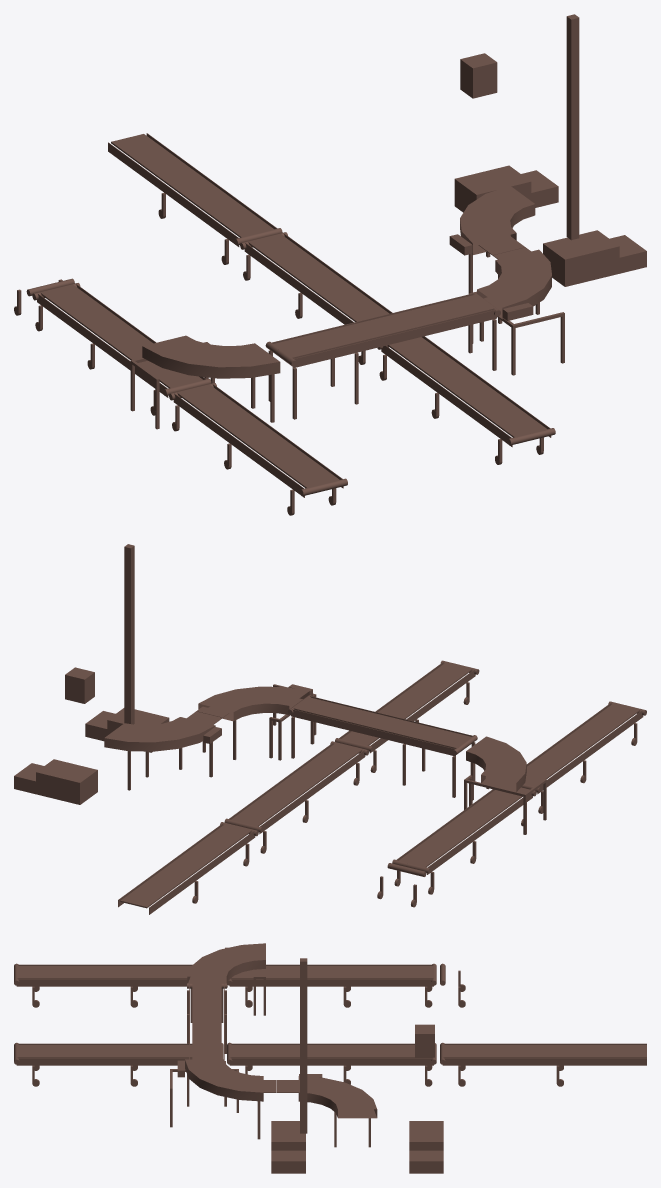
File: GCC-AAV-13220-30.nwd(156).fbx
3 renders of one model, top to bottom at view 1: azimuth 30°, elevation 25°; view 2: azimuth 150°, elevation 25°; view 3: azimuth 270°, elevation 25°, orthographic. The views are drawn at different scales.
Parts seen in each view (by area): view 1: BOX 9 of SUBEQUIPMENT /725-U-502-X-015A, BOX 9 of SUBEQUIPMENT 46 of EQUIPMENT /725-U-501, BOX 9 of SUBEQUIPMENT 31 of EQUIPMENT /725-U-502, BOX 9 of SUBEQUIPMENT 47 of EQUIPMENT /725-U-501, RTORUS 1 of SUBEQUIPMENT 31 of EQUIPMENT /725-U-501, BOX 9 of SUBEQUIPMENT 30 of EQUIPMENT /725-U-502, BOX 9 of SUBEQUIPMENT 45 of EQUIPMENT /725-U-501, BOX 8 of SUBEQUIPMENT 1 of EQUIPMENT /725-U-502, BOX 19 of SUBEQUIPMENT 1 of EQUIPMENT /725-U-502, RTORUS 2 of SUBEQUIPMENT 1 of EQUIPMENT /725-U-502, RTORUS 1 of SUBEQUIPMENT 1 of EQUIPMENT /725-U-502, BOX 1 of SUBEQUIPMENT 47 of EQUIPMENT /725-U-501 (+9 smaller); view 2: BOX 9 of SUBEQUIPMENT /725-U-502-X-015A, BOX 9 of SUBEQUIPMENT 30 of EQUIPMENT /725-U-502, BOX 9 of SUBEQUIPMENT 46 of EQUIPMENT /725-U-501, BOX 9 of SUBEQUIPMENT 47 of EQUIPMENT /725-U-501, BOX 9 of SUBEQUIPMENT 45 of EQUIPMENT /725-U-501, RTORUS 2 of SUBEQUIPMENT 1 of EQUIPMENT /725-U-502, RTORUS 1 of SUBEQUIPMENT 1 of EQUIPMENT /725-U-502, RTORUS 1 of SUBEQUIPMENT 31 of EQUIPMENT /725-U-501, BOX 9 of SUBEQUIPMENT 31 of EQUIPMENT /725-U-502, BOX 5 of SUBEQUIPMENT 1 of EQUIPMENT /725-U-502, BOX 19 of SUBEQUIPMENT 1 of EQUIPMENT /725-U-502, BOX 2 of SUBEQUIPMENT 47 of EQUIPMENT /725-U-501 (+9 smaller); view 3: BOX 9 of SUBEQUIPMENT /725-U-502-X-015A, BOX 9 of SUBEQUIPMENT 30 of EQUIPMENT /725-U-502, BOX 9 of SUBEQUIPMENT 45 of EQUIPMENT /725-U-501, BOX 9 of SUBEQUIPMENT 31 of EQUIPMENT /725-U-502, BOX 9 of SUBEQUIPMENT 46 of EQUIPMENT /725-U-501, BOX 9 of SUBEQUIPMENT 47 of EQUIPMENT /725-U-501, RTORUS 1 of SUBEQUIPMENT 1 of EQUIPMENT /725-U-502, RTORUS 1 of SUBEQUIPMENT 31 of EQUIPMENT /725-U-501, RTORUS 2 of SUBEQUIPMENT 1 of EQUIPMENT /725-U-502, BOX 1 of SUBEQUIPMENT /725-U-502-X-015A, BOX 1 of SUBEQUIPMENT 30 of EQUIPMENT /725-U-502, BOX 2 of SUBEQUIPMENT 45 of EQUIPMENT /725-U-501 (+12 smaller).
Part boxes in pixels (<box>): BOX 9 of SUBEQUIPMENT /725-U-502-X-015A: <box>111,134,274,237</box>; BOX 9 of SUBEQUIPMENT 46 of EQUIPMENT /725-U-501: <box>177,384,339,488</box>; BOX 9 of SUBEQUIPMENT 31 of EQUIPMENT /725-U-502: <box>387,337,547,437</box>; BOX 9 of SUBEQUIPMENT 47 of EQUIPMENT /725-U-501: <box>272,294,494,358</box>; RTORUS 1 of SUBEQUIPMENT 31 of EQUIPMENT /725-U-501: <box>142,335,280,378</box>; BOX 9 of SUBEQUIPMENT 30 of EQUIPMENT /725-U-502: <box>248,234,389,321</box>; BOX 9 of SUBEQUIPMENT 45 of EQUIPMENT /725-U-501: <box>40,284,203,388</box>; BOX 8 of SUBEQUIPMENT 1 of EQUIPMENT /725-U-502: <box>543,230,619,286</box>; BOX 19 of SUBEQUIPMENT 1 of EQUIPMENT /725-U-502: <box>566,14,579,240</box>; RTORUS 2 of SUBEQUIPMENT 1 of EQUIPMENT /725-U-502: <box>460,185,535,254</box>; RTORUS 1 of SUBEQUIPMENT 1 of EQUIPMENT /725-U-502: <box>477,249,551,319</box>; BOX 1 of SUBEQUIPMENT 47 of EQUIPMENT /725-U-501: <box>292,309,496,368</box>; BOX 9 of SUBEQUIPMENT /725-U-502-X-015A: <box>120,823,252,908</box>; BOX 9 of SUBEQUIPMENT 30 of EQUIPMENT /725-U-502: <box>231,742,362,826</box>; BOX 9 of SUBEQUIPMENT 46 of EQUIPMENT /725-U-501: <box>524,703,640,786</box>; BOX 9 of SUBEQUIPMENT 47 of EQUIPMENT /725-U-501: <box>293,697,471,748</box>; BOX 9 of SUBEQUIPMENT 45 of EQUIPMENT /725-U-501: <box>398,787,529,867</box>; RTORUS 2 of SUBEQUIPMENT 1 of EQUIPMENT /725-U-502: <box>104,717,215,751</box>; RTORUS 1 of SUBEQUIPMENT 1 of EQUIPMENT /725-U-502: <box>198,686,309,721</box>; RTORUS 1 of SUBEQUIPMENT 31 of EQUIPMENT /725-U-501: <box>466,736,526,792</box>; BOX 9 of SUBEQUIPMENT 31 of EQUIPMENT /725-U-502: <box>341,662,472,745</box>; BOX 5 of SUBEQUIPMENT 1 of EQUIPMENT /725-U-502: <box>36,759,97,804</box>; BOX 19 of SUBEQUIPMENT 1 of EQUIPMENT /725-U-502: <box>124,544,134,724</box>; BOX 2 of SUBEQUIPMENT 47 of EQUIPMENT /725-U-501: <box>291,709,455,756</box>; BOX 9 of SUBEQUIPMENT /725-U-502-X-015A: <box>442,1045,646,1058</box>; BOX 9 of SUBEQUIPMENT 30 of EQUIPMENT /725-U-502: <box>229,1045,432,1058</box>; BOX 9 of SUBEQUIPMENT 45 of EQUIPMENT /725-U-501: <box>231,966,433,979</box>; BOX 9 of SUBEQUIPMENT 31 of EQUIPMENT /725-U-502: <box>16,1045,192,1058</box>; BOX 9 of SUBEQUIPMENT 46 of EQUIPMENT /725-U-501: <box>16,966,190,979</box>; BOX 9 of SUBEQUIPMENT 47 of EQUIPMENT /725-U-501: <box>192,983,221,1059</box>; RTORUS 1 of SUBEQUIPMENT 1 of EQUIPMENT /725-U-502: <box>185,1059,263,1101</box>; RTORUS 1 of SUBEQUIPMENT 31 of EQUIPMENT /725-U-501: <box>187,943,265,983</box>; RTORUS 2 of SUBEQUIPMENT 1 of EQUIPMENT /725-U-502: <box>298,1076,377,1118</box>; BOX 1 of SUBEQUIPMENT /725-U-502-X-015A: <box>442,1058,646,1065</box>; BOX 1 of SUBEQUIPMENT 30 of EQUIPMENT /725-U-502: <box>229,1058,433,1065</box>; BOX 2 of SUBEQUIPMENT 45 of EQUIPMENT /725-U-501: <box>229,979,433,986</box>.
Size of the model in its own units: 375 by 180 by 507.
